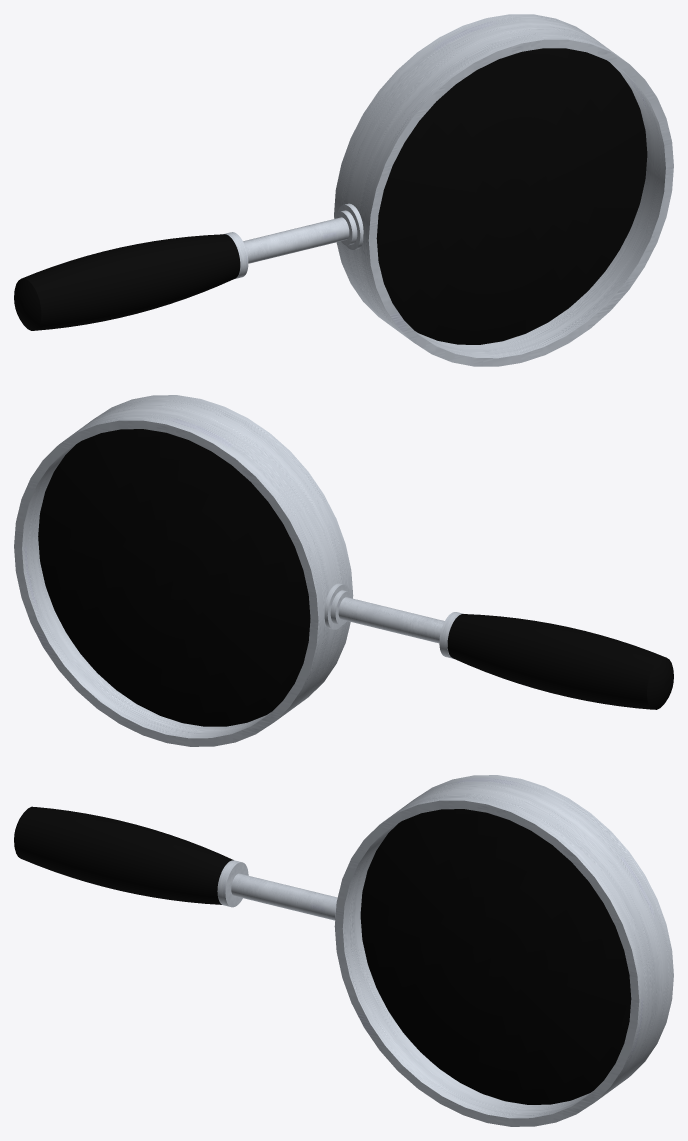
The model's file is magnifying glass_base.fbx.
3 renders of one model, top to bottom at view 1: azimuth 30°, elevation 25°; view 2: azimuth 150°, elevation 25°; view 3: azimuth 330°, elevation 25°, orthographic.
Visible parts, largest first — view 1: glass, frame, handle, bar; view 2: glass, frame, handle, bar; view 3: glass, frame, handle, bar, holder.
Part boxes in pixels (box(x1,y1,x2,y2)): glass: box(376, 48, 647, 344); frame: box(334, 14, 673, 366); handle: box(14, 234, 240, 330); bar: box(243, 217, 349, 263); glass: box(38, 429, 310, 726); frame: box(14, 395, 353, 746); handle: box(447, 614, 673, 709); bar: box(338, 597, 444, 643); glass: box(360, 809, 631, 1104); frame: box(334, 775, 673, 1126); handle: box(14, 806, 233, 904); bar: box(231, 873, 337, 920); holder: box(217, 860, 248, 907).
Bounding box in the file's own units: 12.49 × 5.98 × 1.2.
Materials: 2 (1 with a texture image).
